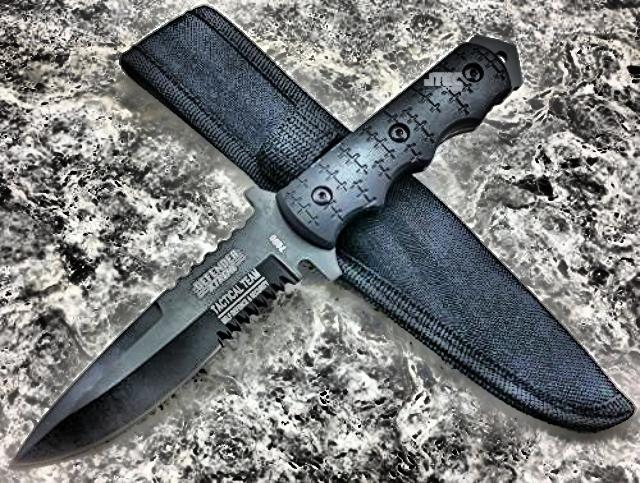knife: (1, 209, 303, 473)
